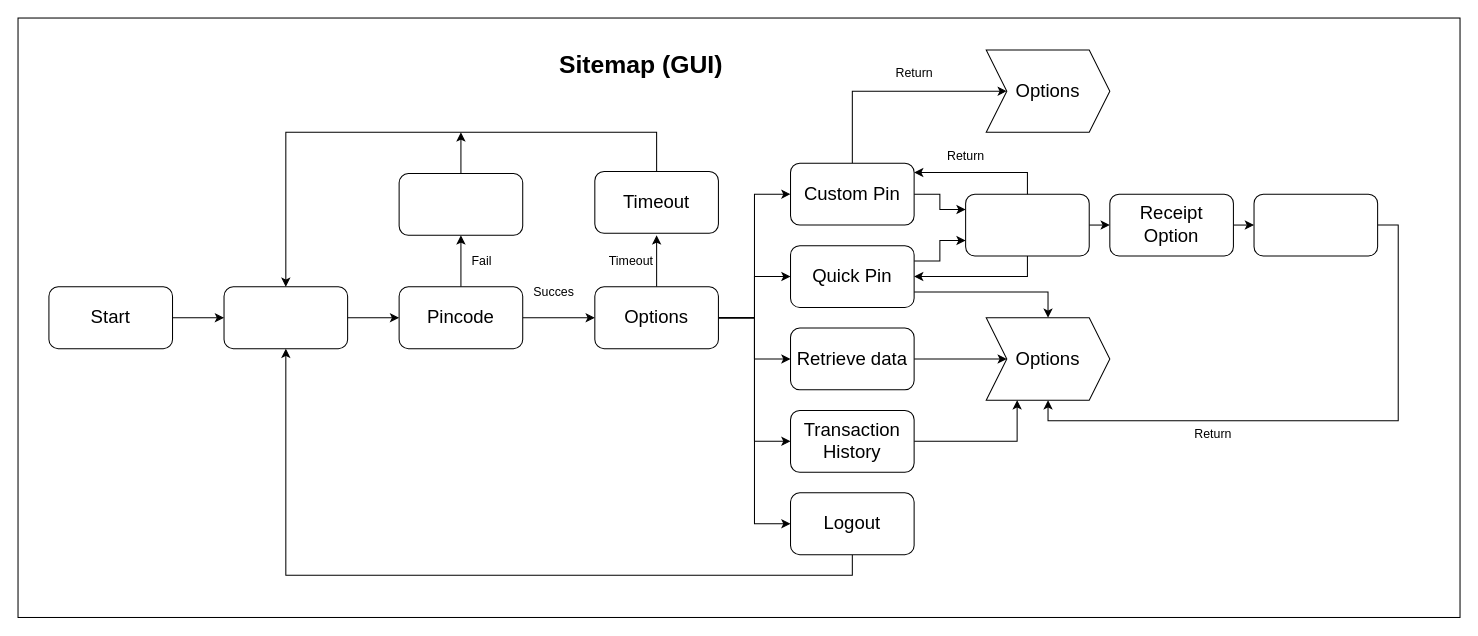
Image size: 1478x636. Some labels were removed from this diagram. Each missing label, with the centre of its shape:
Acknowledge: the point at 1315,224
Card Block: the point at 460,204
Cash Combinations: the point at 1027,224
Scan Card: the point at 285,317
